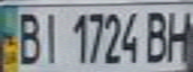1: (66, 8, 87, 64)
2: (103, 8, 124, 64)
4: (121, 8, 145, 64)
7: (84, 8, 106, 64)
B: (9, 8, 45, 65), (142, 7, 172, 64)
H: (163, 7, 193, 63)
I: (36, 8, 63, 64)
